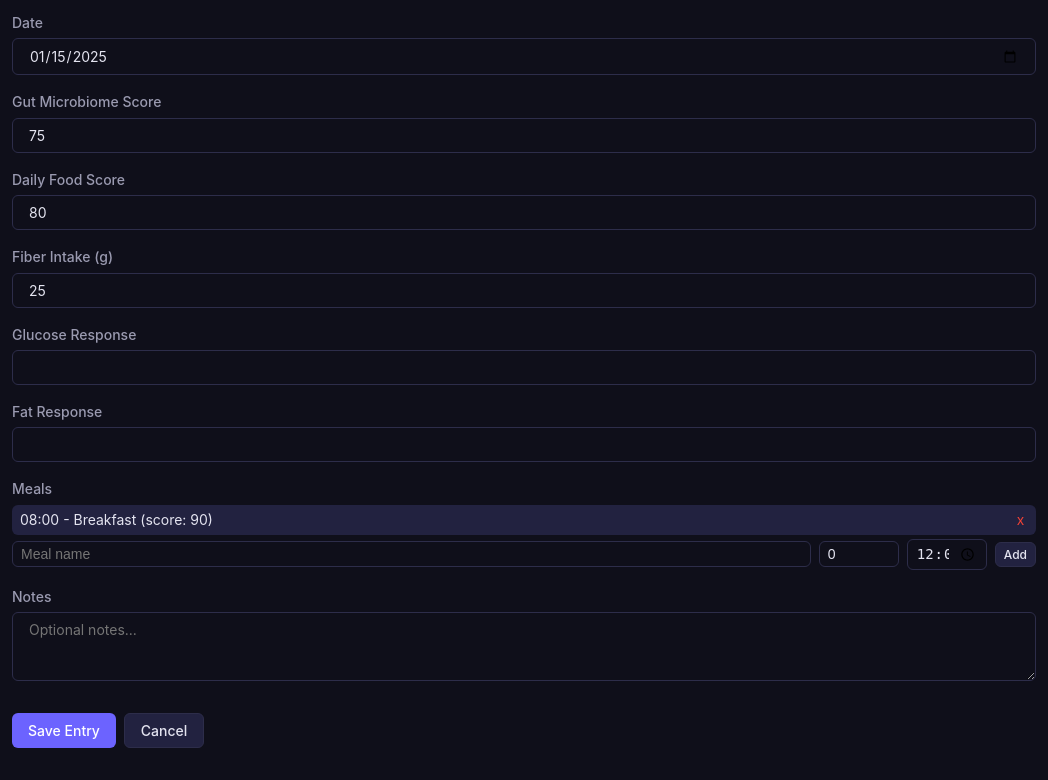
Test: MetabolicForm › supports removing meals
Click the button with class "remove-btn" at (1020, 520), box [1013,512,1028,528]
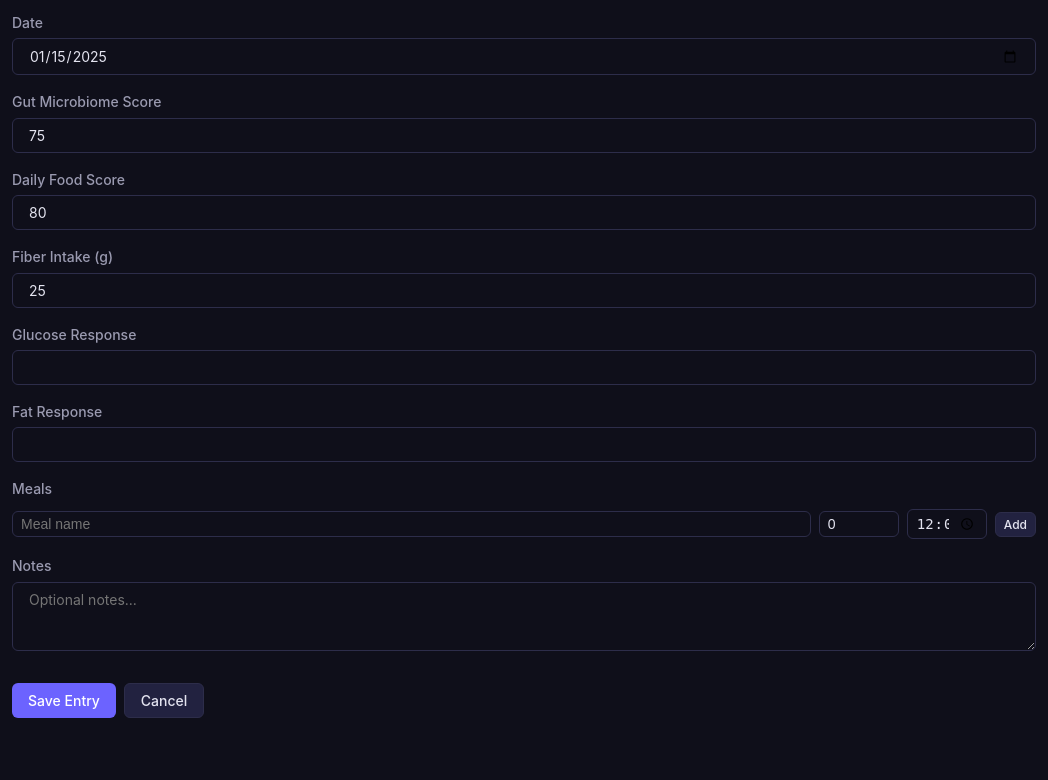
Now the text "Breakfast" is gone
